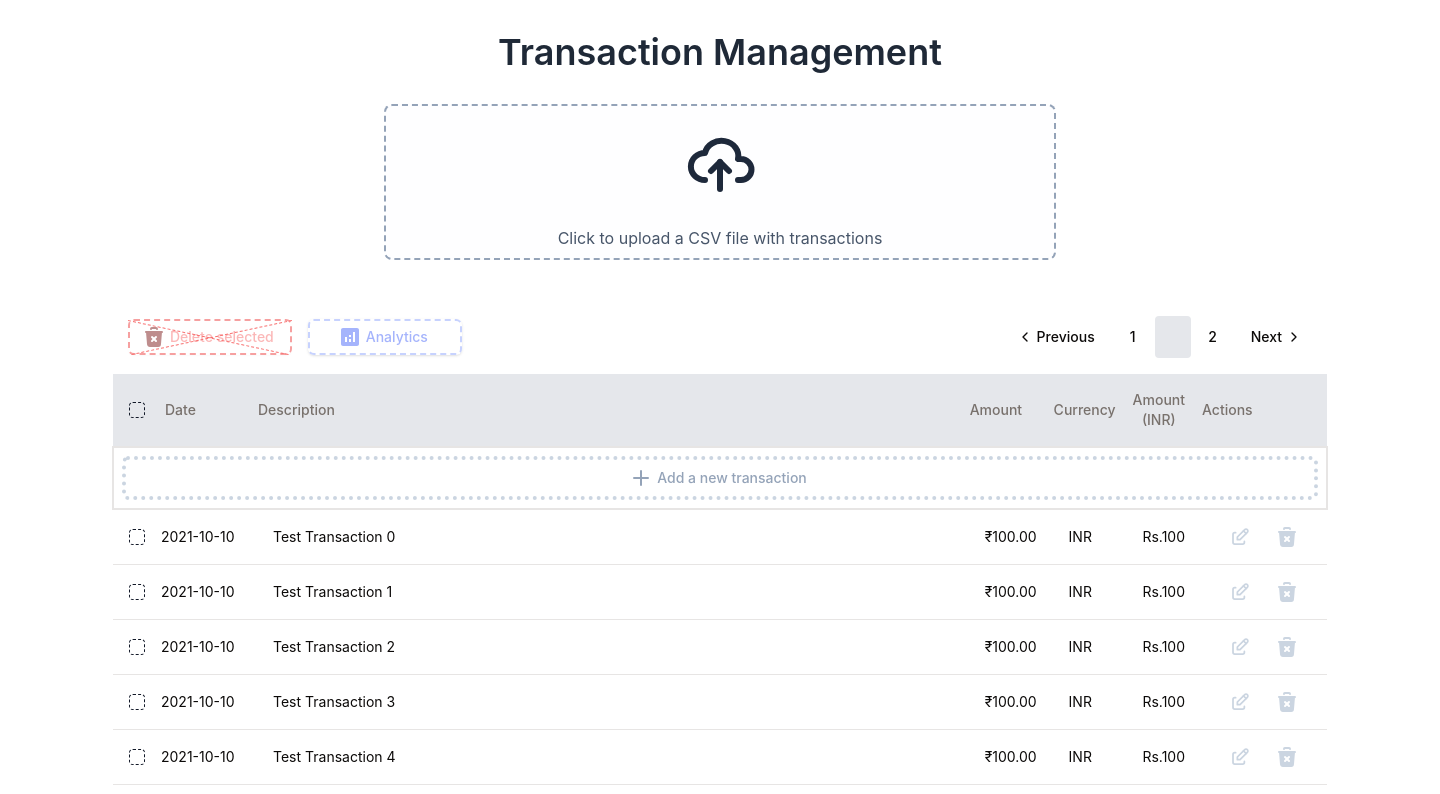
App Component › Should click the edit button
This screenshot has width=1440, height=794.
Click the 1st button with test id "edit-button" at x=1240, y=537, box left=1217, top=518, right=1263, bottom=556
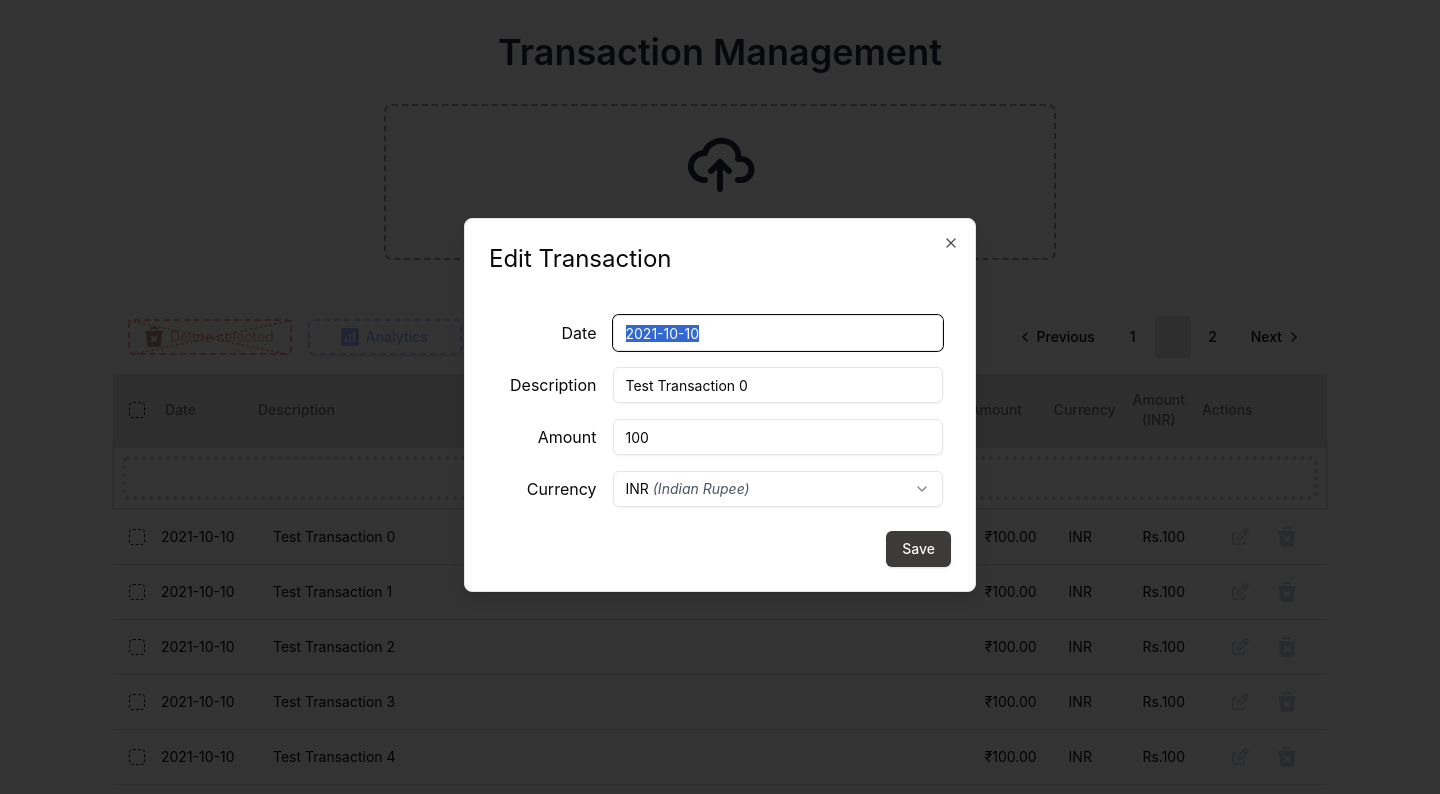
Result: the text "Edit Transaction" is shown at left=489, top=244, right=672, bottom=273
